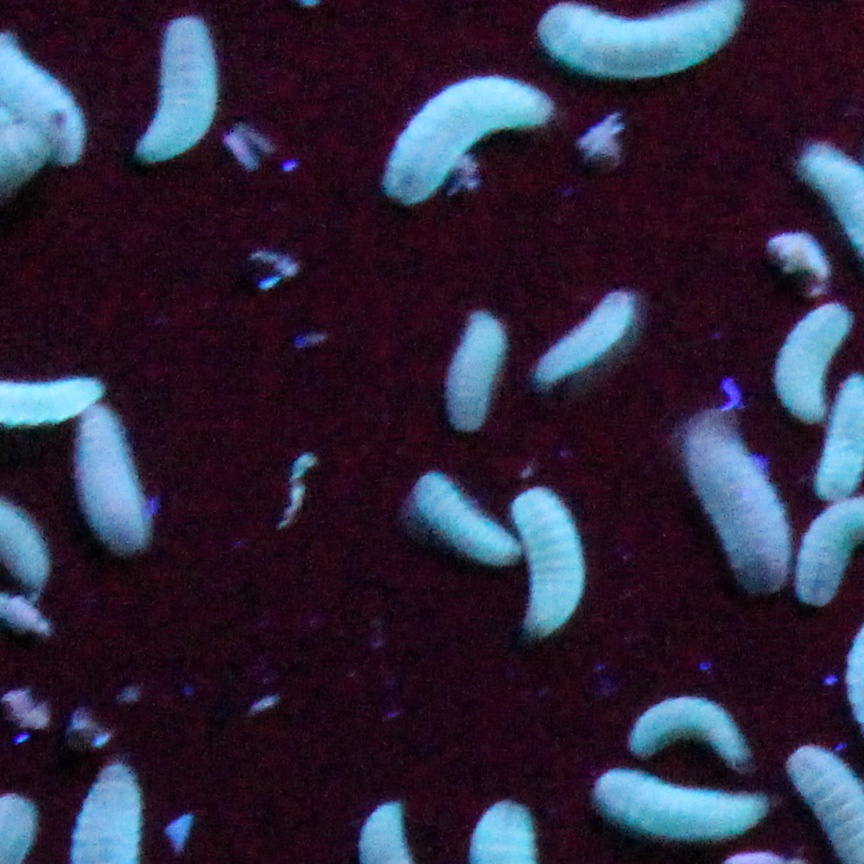larve: (383, 72, 558, 199), (681, 415, 787, 595), (540, 1, 742, 74), (134, 19, 228, 166), (593, 770, 769, 844), (518, 493, 589, 644), (79, 405, 152, 550), (773, 301, 854, 423), (540, 299, 648, 385), (636, 691, 761, 764), (420, 479, 514, 564), (450, 309, 510, 432)
